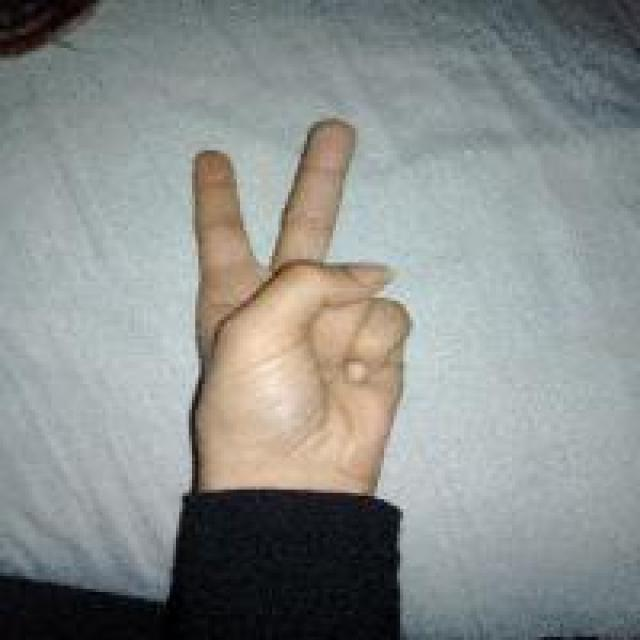V: (179, 113, 413, 484)
